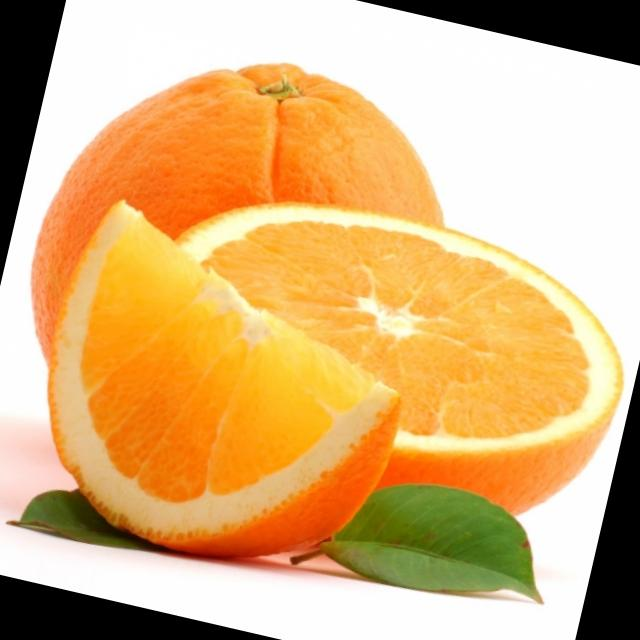orange: (0, 6, 490, 515)
